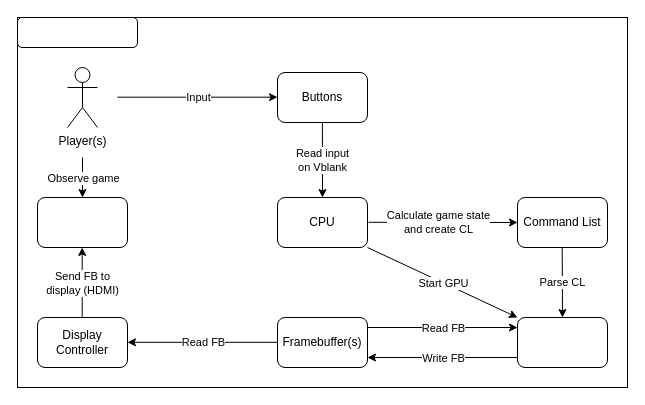
This 645x405 diagram has some shape labels left out. The shapes that lost their labels are listed below. From the top down, each one's centre as x and y in pixels, then its label:
At [77,32]: "Domain Diagram".
At [82,222]: "Display".
At [562,342]: "GPU".
